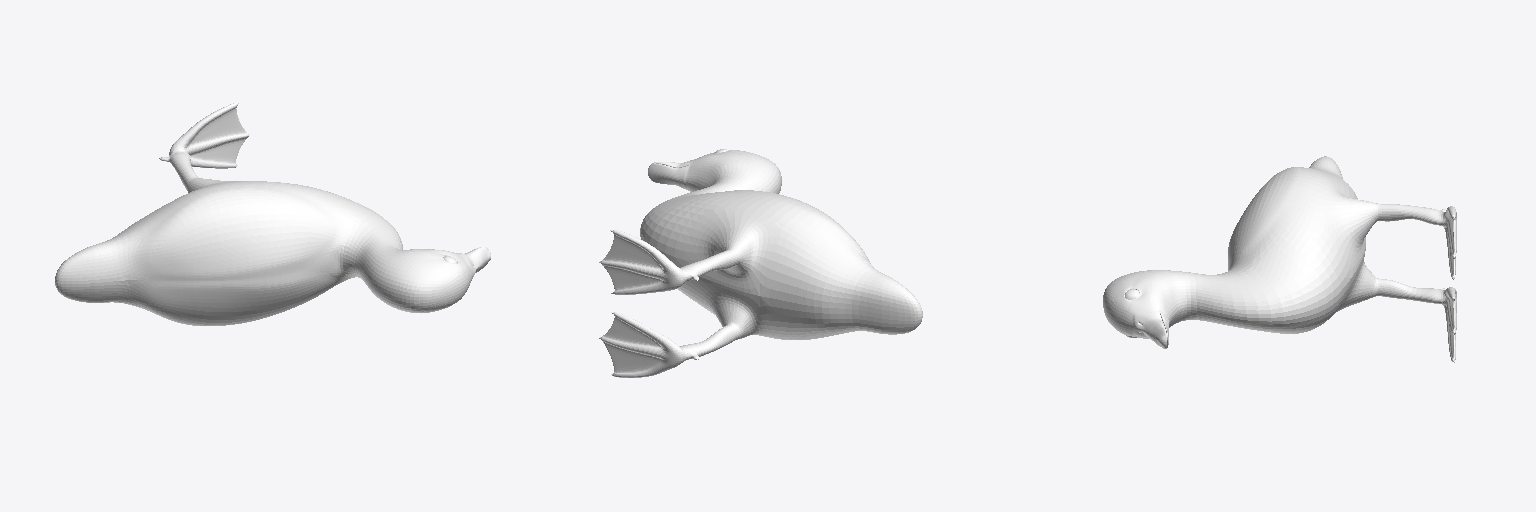
File: 12250_Bird_v1_L3.obj
The picture shows the model from 3 angles: view 1: azimuth 30°, elevation 25°; view 2: azimuth 150°, elevation 25°; view 3: azimuth 270°, elevation 25°; orthographic projection.
Visible parts, largest first — view 1: 12250_Bird; view 2: 12250_Bird; view 3: 12250_Bird.
Part boxes in pixels (x1,y1,x2,y2): 12250_Bird: (55,103,490,325); 12250_Bird: (599,149,922,377); 12250_Bird: (1103,156,1456,362).
Bounding box in the file's own units: 16.52 × 6.55 × 14.31.